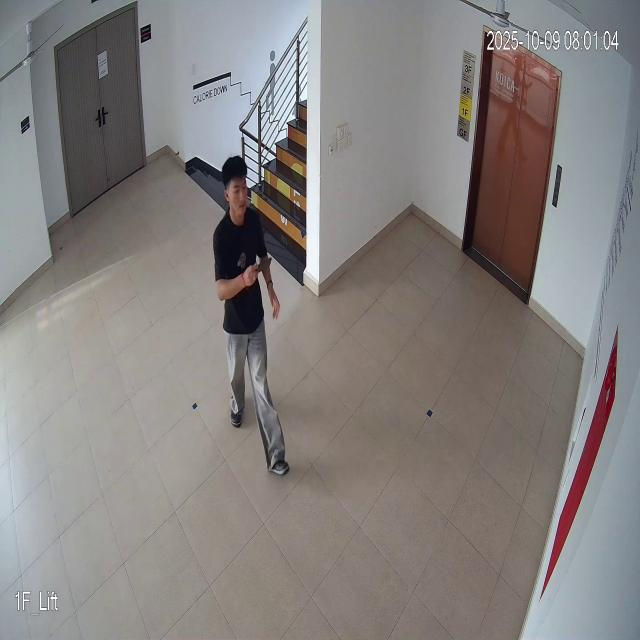face: (219, 148, 260, 222)
